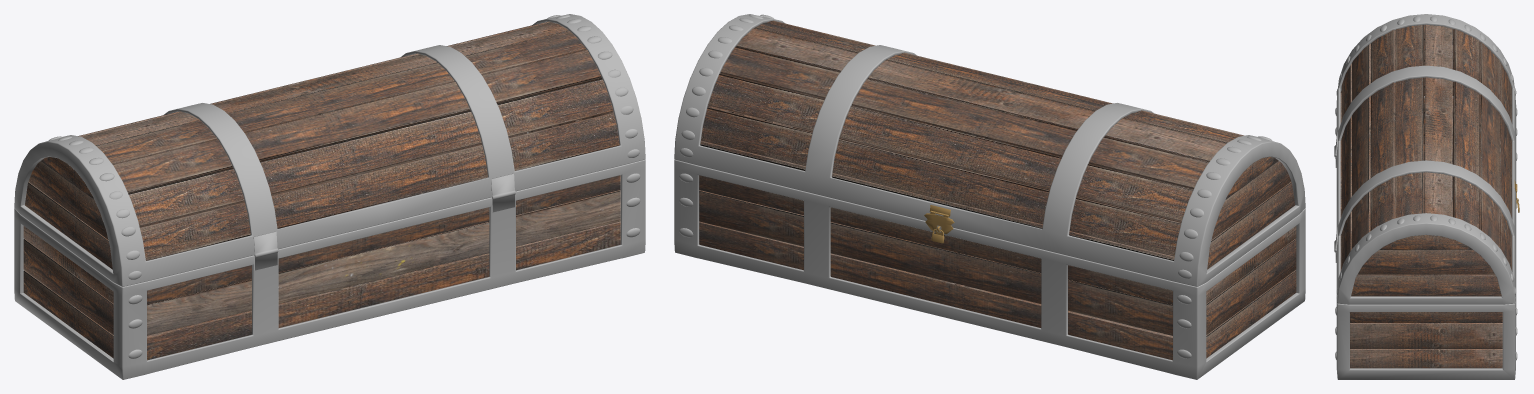
The model's file is chest-3.glb.
3 renders of one model, left to right at view 1: azimuth 30°, elevation 25°; view 2: azimuth 150°, elevation 25°; view 3: azimuth 270°, elevation 25°, orthographic. The views are drawn at different scales.
Parts seen in each view (by area): view 1: Chest; view 2: Chest; view 3: Chest.
Boxes of the visible parts, bbox=[...] form: Chest: bbox=[14, 14, 645, 379]; Chest: bbox=[674, 14, 1305, 379]; Chest: bbox=[1334, 14, 1519, 379].
Size of the model in its own units: 5.72 by 2 by 2.12.
Materials: 3 (1 with a texture image).
